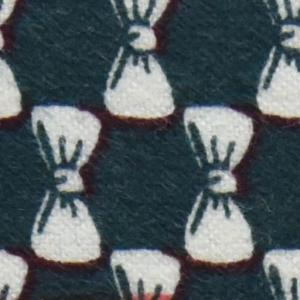Stain: (121, 291, 187, 300)
